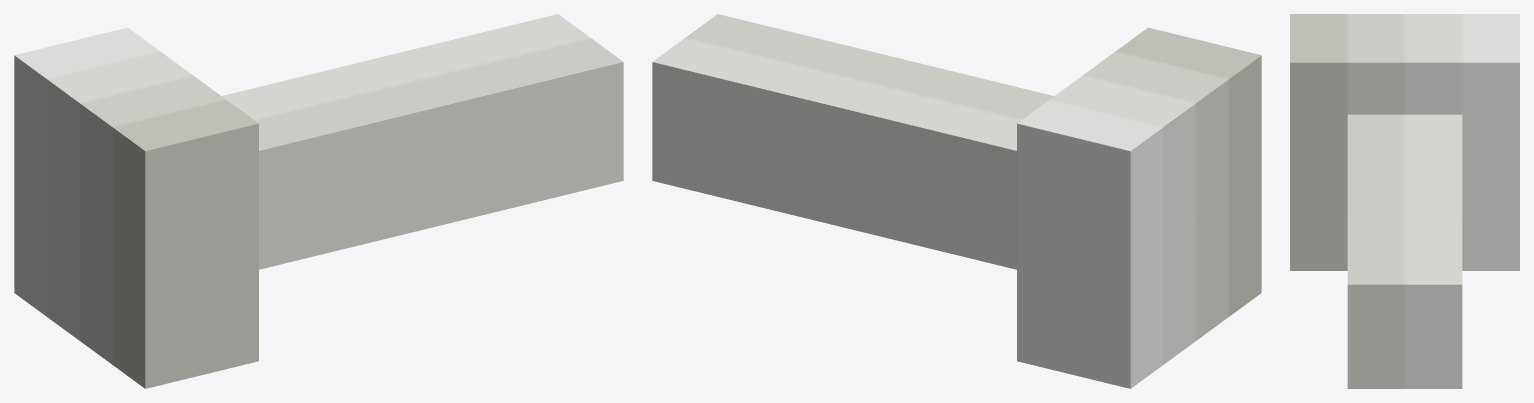
File: Elbow072.fbx
3 views of the same model, side by side, from view 1: azimuth 30°, elevation 25°; view 2: azimuth 150°, elevation 25°; view 3: azimuth 270°, elevation 25° (orthographic). The views are drawn at different scales.
Parts seen in each view (by area): view 1: Elbow072; view 2: Elbow072; view 3: Elbow072.
Boxes of the visible parts, x1,y1,x2,y2 form: Elbow072: (14, 14, 623, 388); Elbow072: (652, 14, 1261, 388); Elbow072: (1290, 14, 1519, 388).
Bounding box in the file's own units: 9 × 4 × 4.
